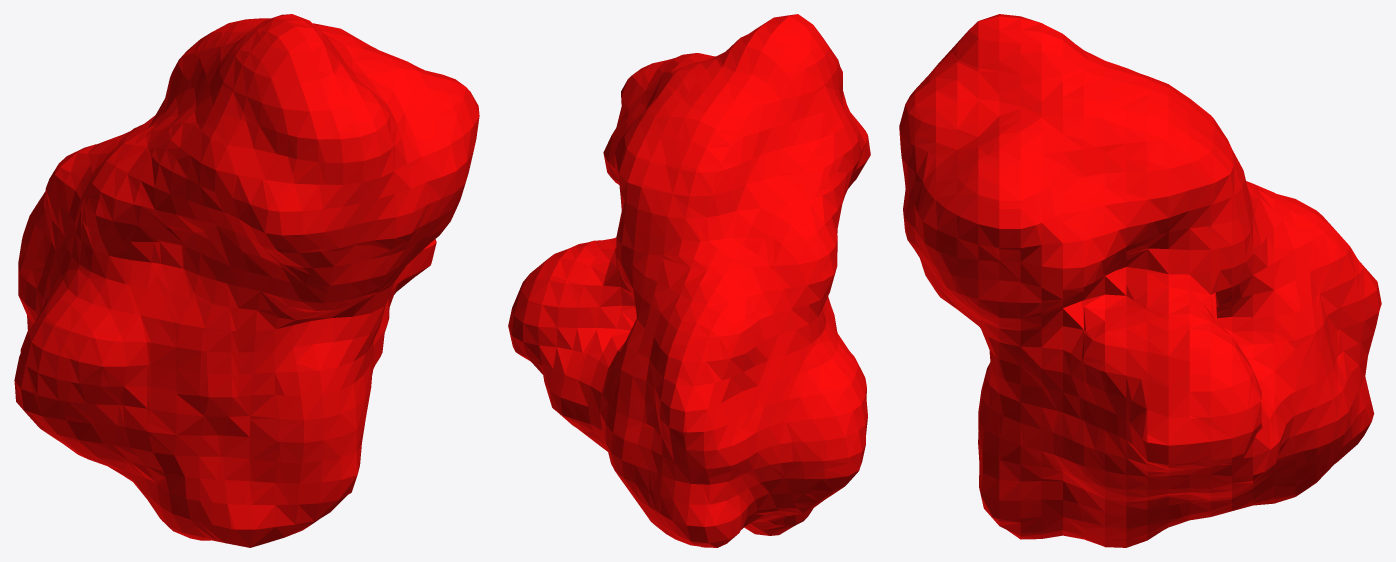
File: rsmH_coarse.dae
3 views of the same model, side by side, from view 1: azimuth 30°, elevation 25°; view 2: azimuth 150°, elevation 25°; view 3: azimuth 270°, elevation 25° (orthographic). The views are drawn at different scales.
Visible parts, largest first — view 1: rsmH; view 2: rsmH; view 3: rsmH.
Boxes of the visible parts, bbox=[...] form: rsmH: bbox=[14, 14, 479, 547]; rsmH: bbox=[508, 14, 870, 547]; rsmH: bbox=[899, 14, 1381, 547].
Bounding box in the file's own units: 51.38 × 66.1 × 53.63.
